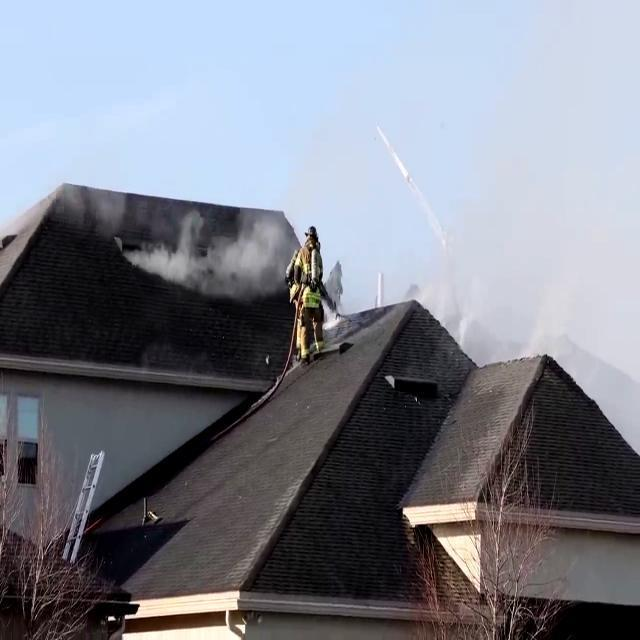Smoke: (140, 194, 298, 300), (56, 176, 128, 237)
